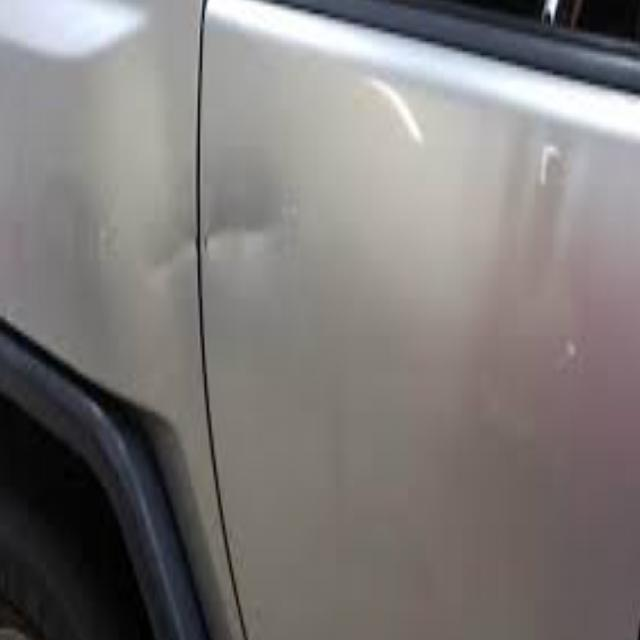dents: (137, 180, 294, 336)
